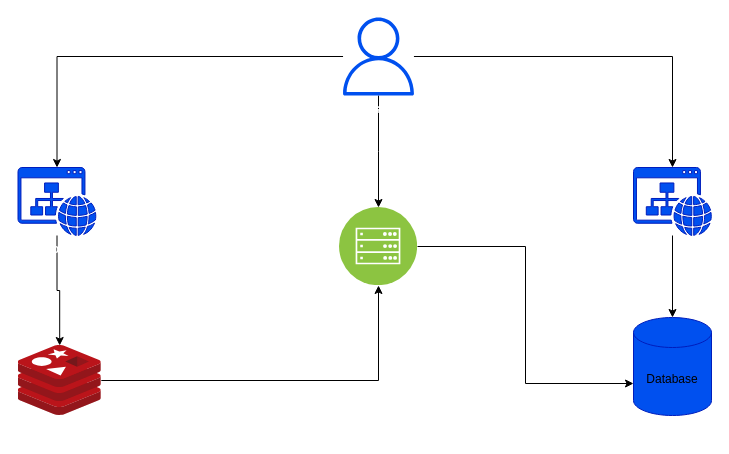
The diagram is 729 pixels wide and 454 high, and some of its shapes have lost their labels. Each missing label, with the centre of its shape:
Redis: point 59,380
Worker: point 378,246
